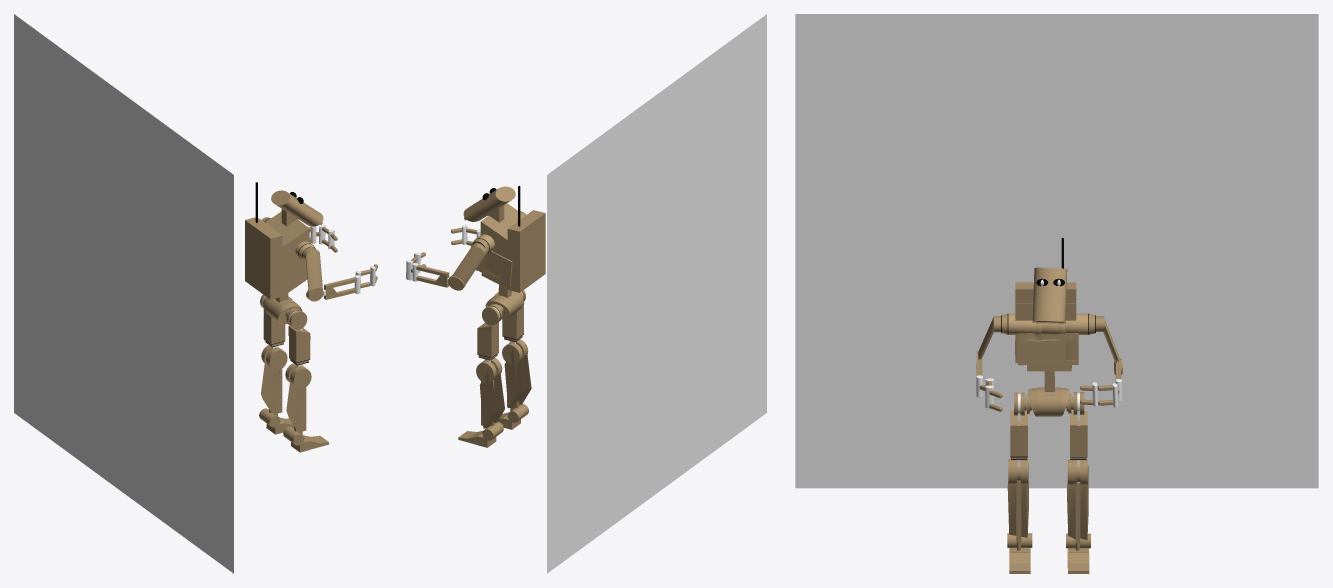
3 views of the same model, side by side, from view 1: azimuth 30°, elevation 25°; view 2: azimuth 150°, elevation 25°; view 3: azimuth 270°, elevation 25° (orthographic). The views are drawn at different scales.
Parts seen in each view (by area): view 1: pPlane1, polySurface36, polySurface39, pCylinder46, polySurface78, polySurface80, polySurface88, polySurface87, polySurface83, polySurface84; view 2: pPlane1, polySurface36, polySurface39, polySurface91, polySurface90, polySurface30, polySurface80, polySurface78, polySurface83, polySurface102; view 3: pPlane1, polySurface101, polySurface39, polySurface41, polySurface36, polySurface102, polySurface66.
Boxes of the visible parts, <box> form: pPlane1: <box>14,14,233,573</box>; polySurface36: <box>245,211,309,299</box>; polySurface39: <box>271,190,323,226</box>; pCylinder46: <box>302,247,322,291</box>; polySurface78: <box>289,326,310,362</box>; polySurface80: <box>263,309,285,344</box>; polySurface88: <box>287,374,303,432</box>; polySurface87: <box>265,366,280,415</box>; polySurface83: <box>285,363,311,388</box>; polySurface84: <box>261,345,287,370</box>; pPlane1: <box>547,14,766,573</box>; polySurface36: <box>480,203,545,292</box>; polySurface39: <box>463,186,515,221</box>; polySurface91: <box>479,367,501,428</box>; polySurface90: <box>504,347,526,408</box>; polySurface30: <box>452,243,488,286</box>; polySurface80: <box>477,322,498,358</box>; polySurface78: <box>502,303,523,339</box>; polySurface83: <box>502,339,528,364</box>; polySurface102: <box>476,253,511,286</box>; pPlane1: <box>795,14,1318,488</box>; polySurface101: <box>1015,333,1078,365</box>; polySurface39: <box>1032,267,1067,323</box>; polySurface41: <box>1001,313,1088,334</box>; polySurface36: <box>1015,282,1076,362</box>; polySurface102: <box>1015,333,1078,365</box>; polySurface66: <box>1037,387,1060,416</box>.
Bounding box in the file's own units: 14.8 × 24.56 × 24.56.
